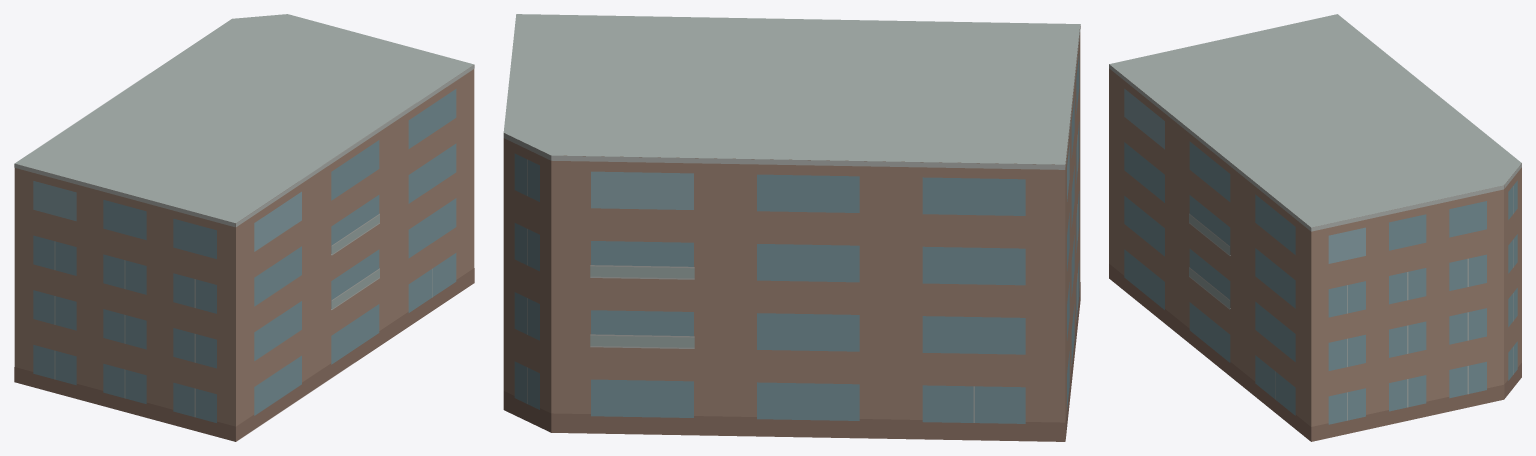
Rendered from survey-upis-32967965.glb.
3 views of the same model, side by side, from view 1: azimuth 30°, elevation 25°; view 2: azimuth 150°, elevation 25°; view 3: azimuth 270°, elevation 25° (orthographic). The views are drawn at different scales.
Visible parts, largest first — view 1: survey-upis-32967965.tmp; view 2: survey-upis-32967965.tmp; view 3: survey-upis-32967965.tmp.
Boxes of the visible parts, x1,y1,x2,y2 form: survey-upis-32967965.tmp: [14, 14, 474, 441]; survey-upis-32967965.tmp: [503, 14, 1080, 441]; survey-upis-32967965.tmp: [1109, 14, 1521, 441].
Size of the model in its own units: 27.32 by 12.78 by 22.32.
